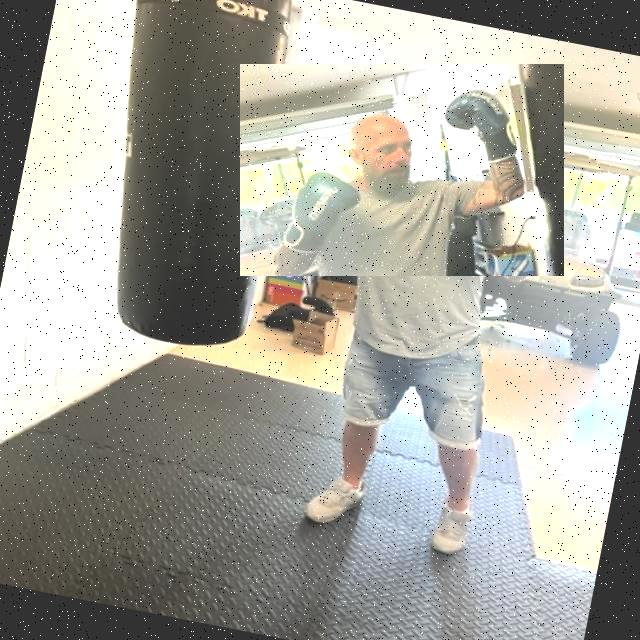punch: (240, 64, 564, 276)
